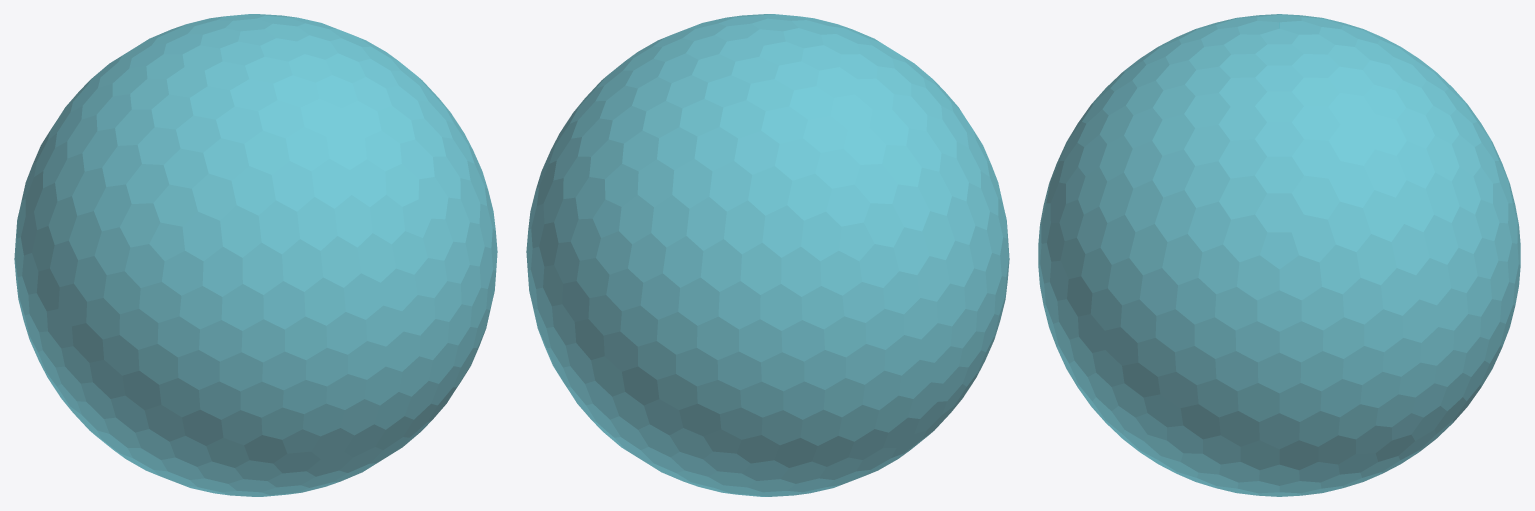
File: SM_Prop_Shield_Bubble_01.glb
3 views of the same model, side by side, from view 1: azimuth 30°, elevation 25°; view 2: azimuth 150°, elevation 25°; view 3: azimuth 270°, elevation 25° (orthographic).
Parts seen in each view (by area): view 1: SM_Prop_Shield_Bubble_01; view 2: SM_Prop_Shield_Bubble_01; view 3: SM_Prop_Shield_Bubble_01.
Part boxes in pixels (x1=…): SM_Prop_Shield_Bubble_01: x1=14, y1=14, x2=497, y2=496; SM_Prop_Shield_Bubble_01: x1=526, y1=14, x2=1009, y2=496; SM_Prop_Shield_Bubble_01: x1=1038, y1=14, x2=1520, y2=496.
Bounding box in the file's own units: 6.1 × 6.08 × 6.09.
